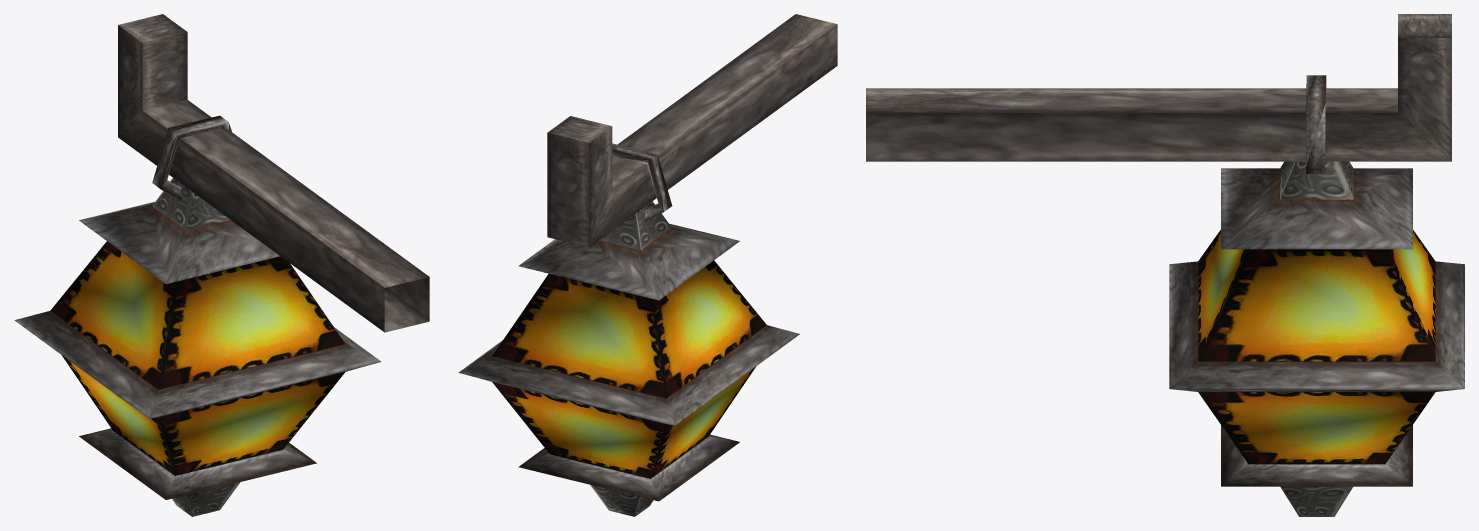
Rendered from new_small_lantern01.obj.
3 views of the same model, side by side, from view 1: azimuth 30°, elevation 25°; view 2: azimuth 150°, elevation 25°; view 3: azimuth 270°, elevation 25° (orthographic). The views are drawn at different scales.
Parts seen in each view (by area): view 1: Geoset0, Geoset1; view 2: Geoset0, Geoset1; view 3: Geoset0, Geoset1.
Part boxes in pixels (<box>): Geoset0: <box>14,14,429,516</box>; Geoset1: <box>50,241,345,475</box>; Geoset0: <box>458,14,837,516</box>; Geoset1: <box>492,260,766,478</box>; Geoset0: <box>866,14,1464,516</box>; Geoset1: <box>1198,230,1435,464</box>.
Bounding box in the file's own units: 1.28 × 2.32 × 2.6.
2 materials, 2 textured.
